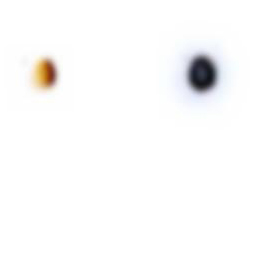cancer: (168, 31, 241, 111)
normal: (14, 52, 75, 101)
